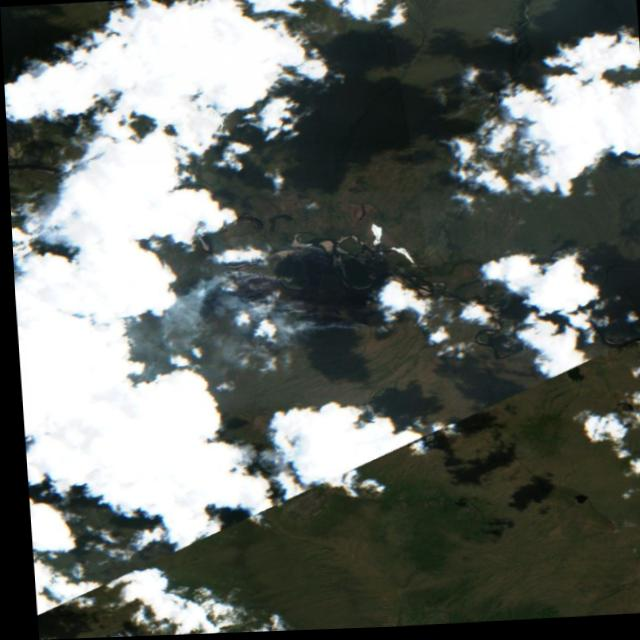fire: (209, 243, 363, 340)
